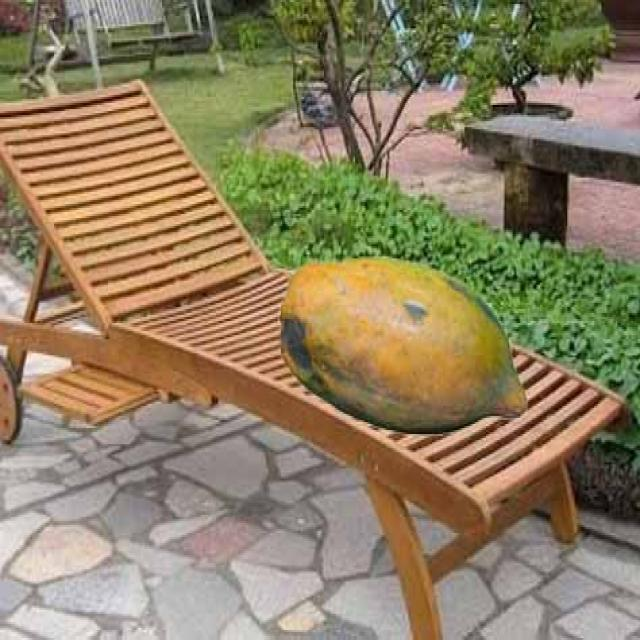Pepaya rippen: (272, 252, 530, 434)
